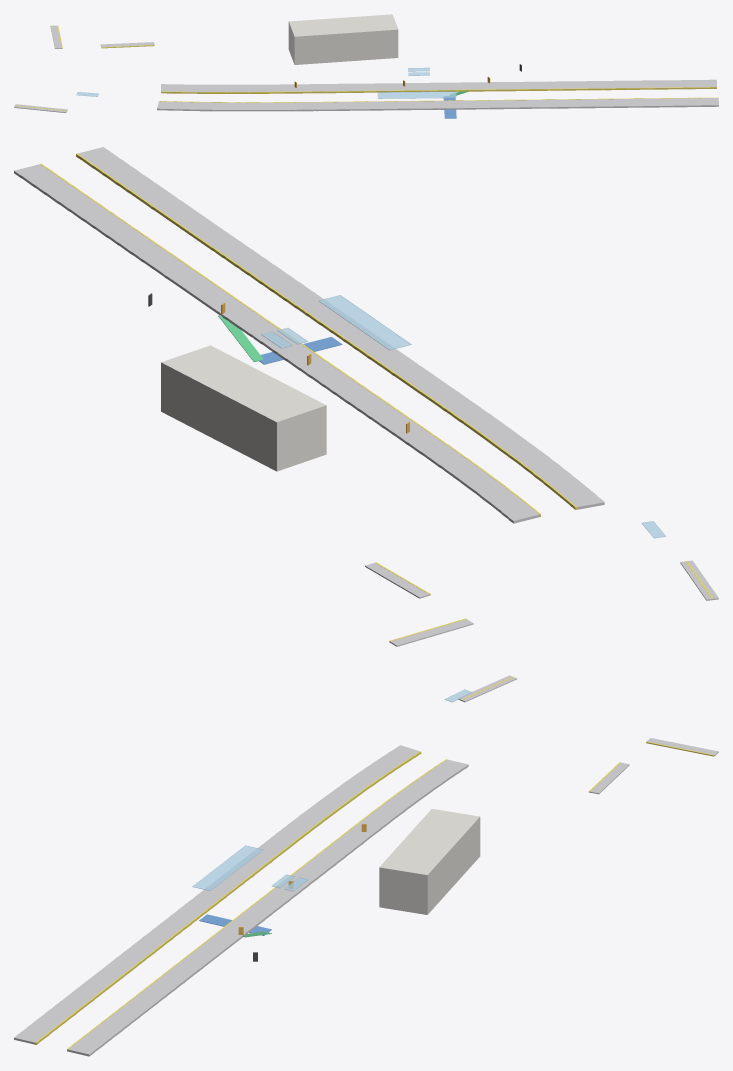
The model's file is 8507077-kehrsatz.glb.
The picture shows the model from 3 angles, top to bottom: view 1: azimuth 30°, elevation 25°; view 2: azimuth 150°, elevation 25°; view 3: azimuth 270°, elevation 25°; orthographic projection. The views are drawn at different scales.
Parts seen in each view (by area): view 1: platform_body@0, building_part@x, boarding_edge@0, roof@0; view 2: platform_body@0, building_part@x, boarding_edge@0, roof@0; view 3: platform_body@0, building_part@x, boarding_edge@0, roof@0.
Part boxes in pixels (x1,y1,x2,y2): platform_body@0: (14, 25, 718, 112); building_part@x: (288, 14, 398, 64); boarding_edge@0: (15, 25, 718, 111); roof@0: (76, 67, 456, 98); platform_body@0: (14, 147, 718, 646); building_part@x: (161, 345, 326, 471); boarding_edge@0: (40, 153, 713, 641); roof@0: (261, 295, 665, 538); platform_body@0: (14, 675, 718, 1056); building_part@x: (379, 809, 480, 914); boarding_edge@0: (35, 676, 714, 1051); roof@0: (192, 689, 472, 891).
Bounding box in the file's own units: 215 × 15.12 × 168.
